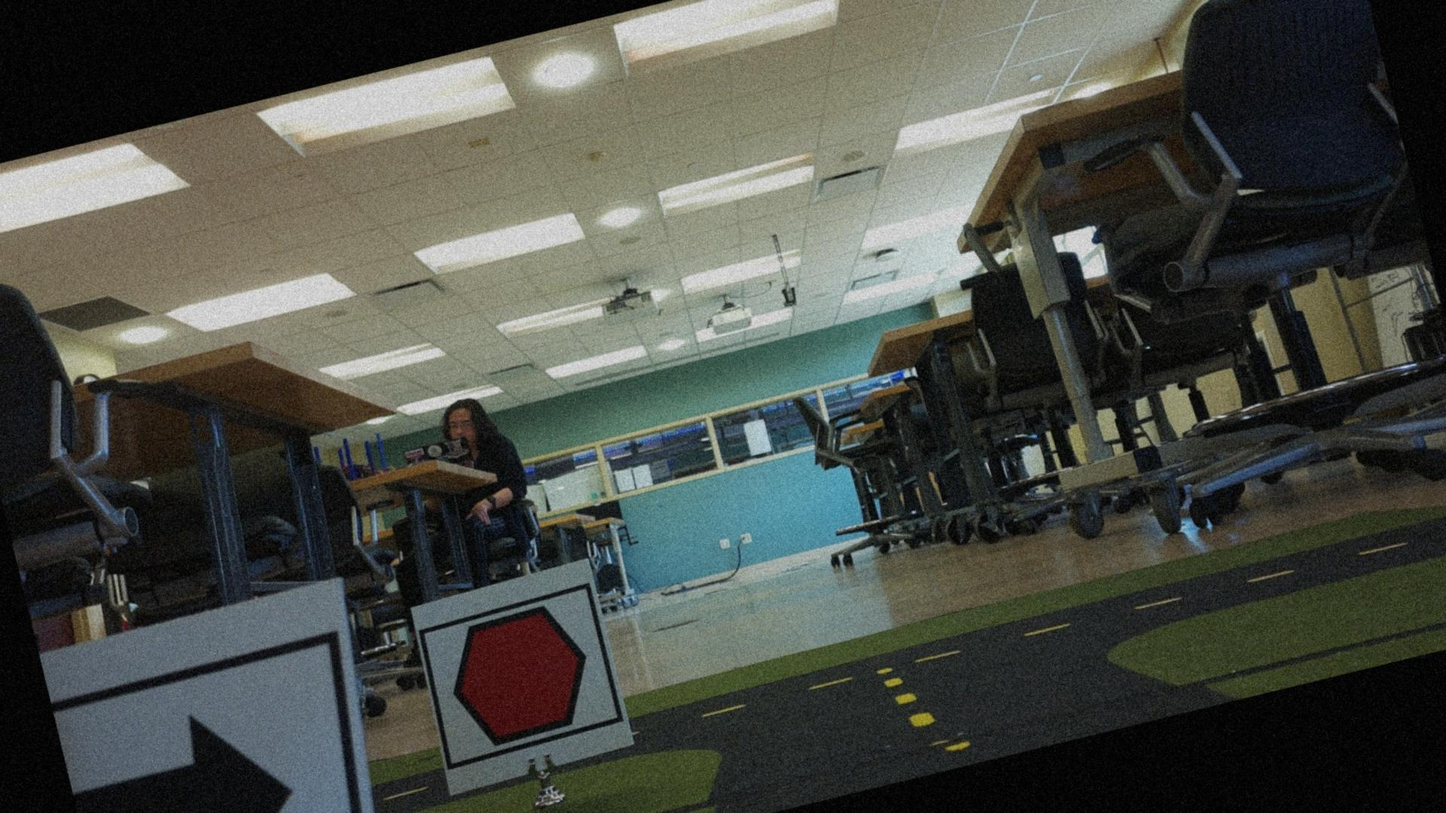stop: (419, 592, 624, 767)
turnright: (53, 650, 370, 812)
yellowline: (883, 667, 934, 735)
